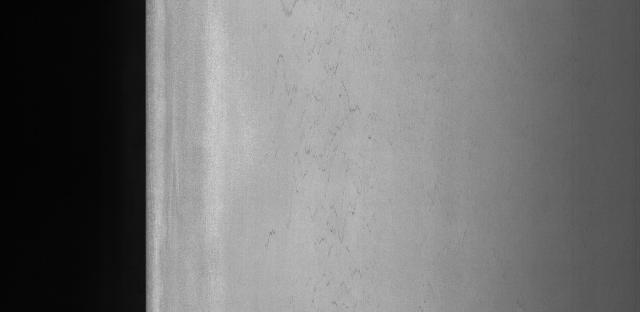silk_spot: (258, 7, 377, 271)
